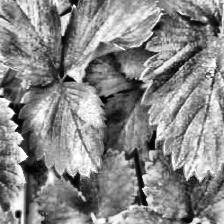Powdery Mildew Leaf: (18, 79, 106, 178)
